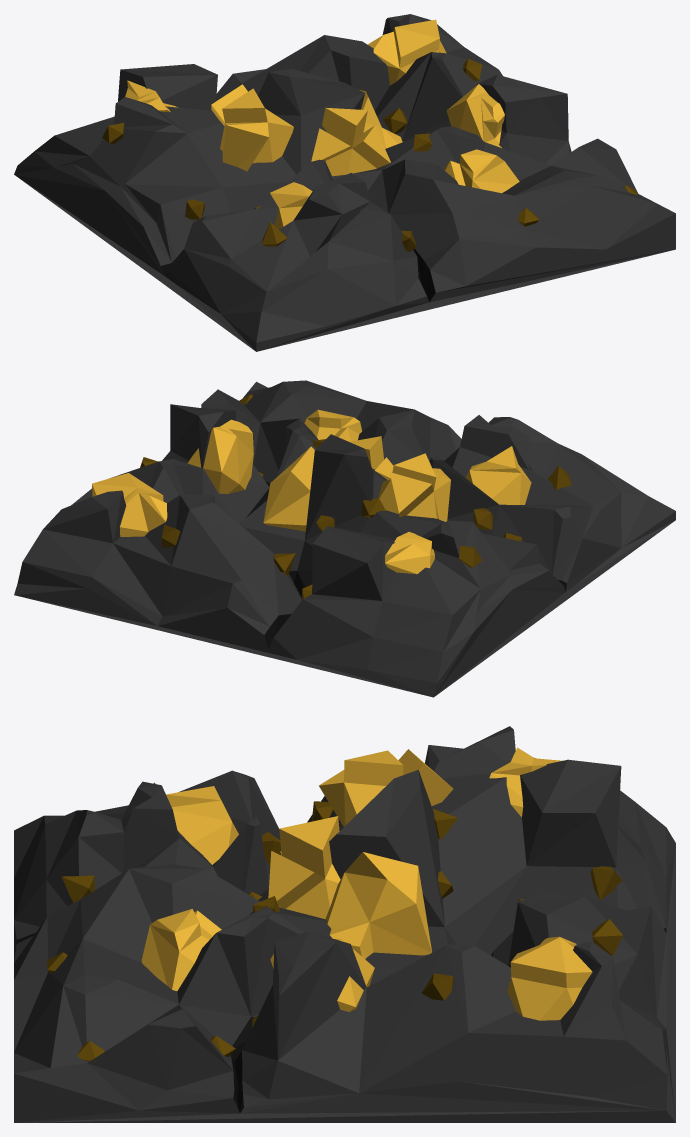
Rendered from goldmine (2).FBX.
The picture shows the model from 3 angles, top to bottom: view 1: azimuth 30°, elevation 25°; view 2: azimuth 150°, elevation 25°; view 3: azimuth 270°, elevation 25°; orthographic projection. The views are drawn at different scales.
Parts seen in each view (by area): view 1: Goldmine; view 2: Goldmine; view 3: Goldmine.
Boxes of the visible parts, x1=… form: Goldmine: x1=14, y1=14, x2=675, y2=351; Goldmine: x1=14, y1=380, x2=675, y2=697; Goldmine: x1=14, y1=726, x2=675, y2=1122.
Bounding box in the file's own units: 39.37 × 11.9 × 39.37.
